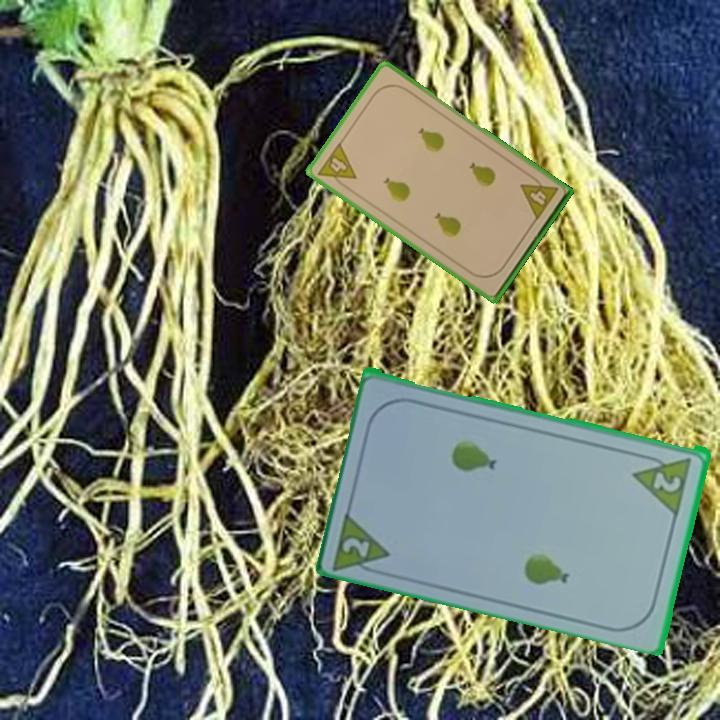2p: (329, 505, 394, 578), (650, 467, 685, 495)
4p: (314, 139, 359, 193), (517, 171, 561, 223)
